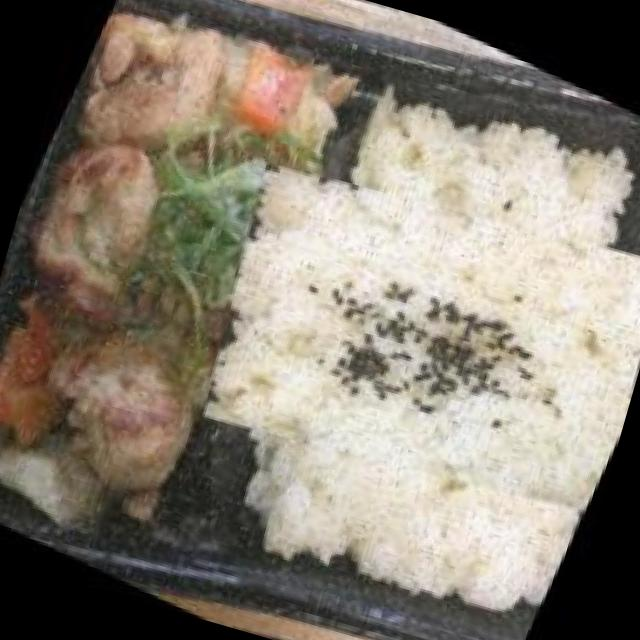rice: (158, 48, 640, 622)
